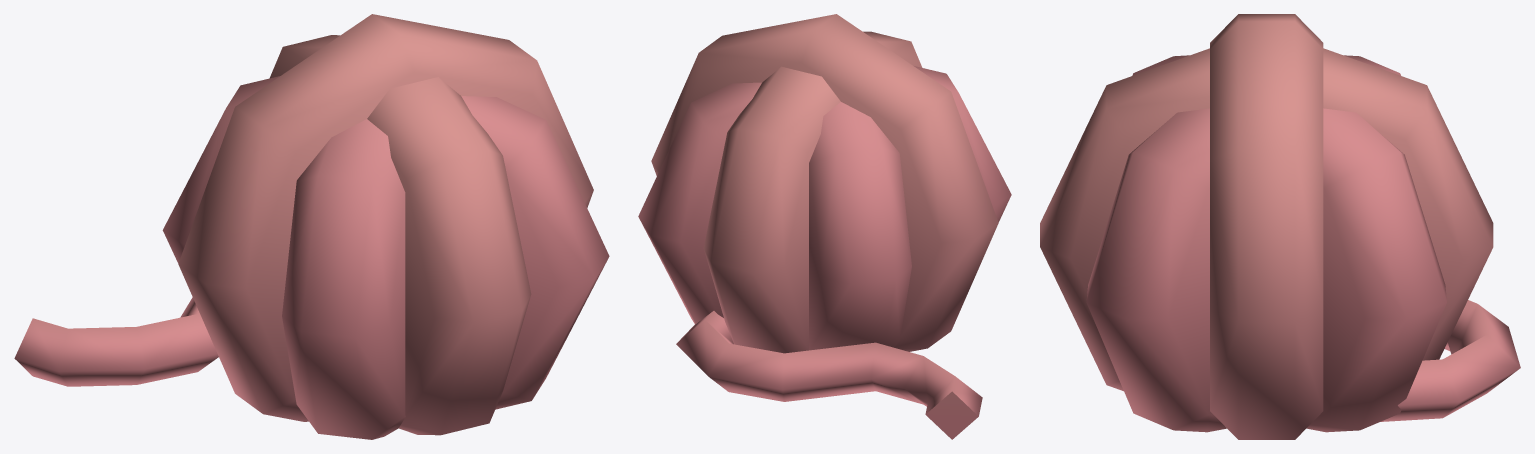
The model's file is wool.glb.
The picture shows the model from 3 angles, left to right: view 1: azimuth 30°, elevation 25°; view 2: azimuth 150°, elevation 25°; view 3: azimuth 270°, elevation 25°; orthographic projection. The views are drawn at different scales.
Parts seen in each view (by area): view 1: wool; view 2: wool; view 3: wool.
Boxes of the visible parts, x1=… form: wool: x1=14, y1=14, x2=609, y2=439; wool: x1=638, y1=14, x2=1011, y2=439; wool: x1=1040, y1=14, x2=1520, y2=439.
Size of the model in its own units: 0.2969 by 0.219 by 0.2588.
